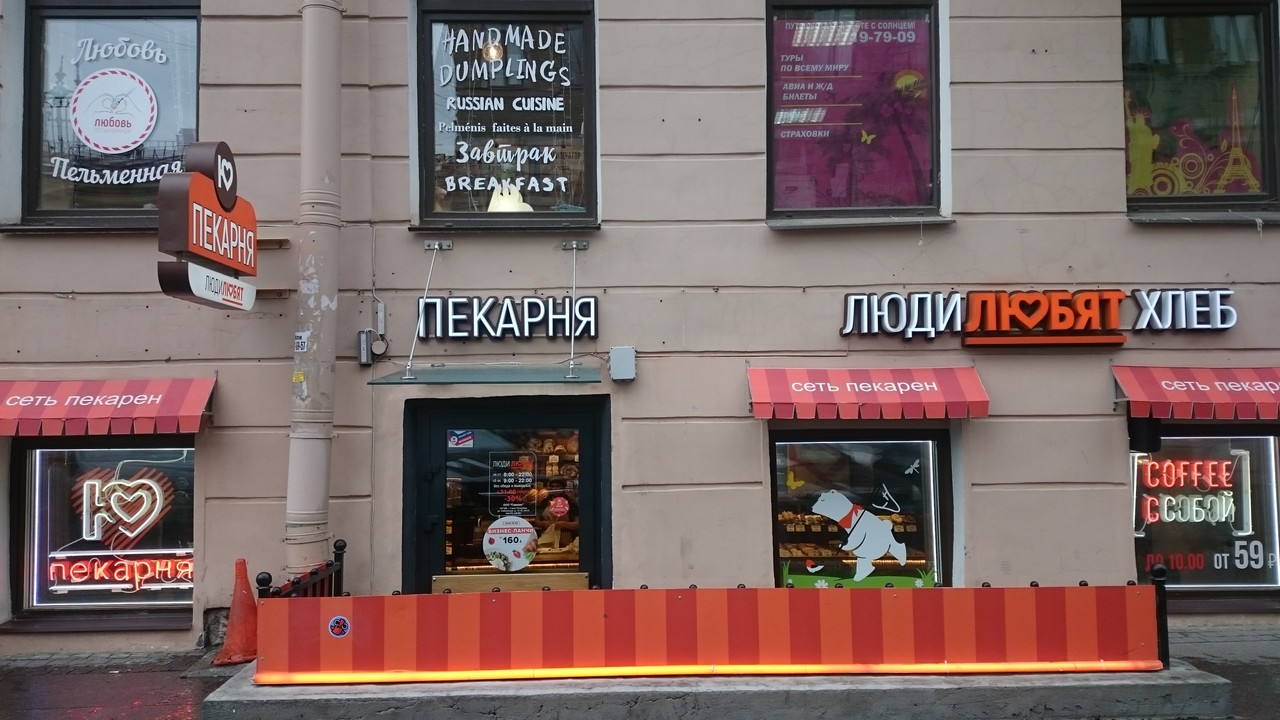cantilever: (155, 134, 297, 312)
signboard: (843, 288, 1236, 350), (416, 295, 600, 341)
window: (764, 6, 942, 222), (423, 9, 595, 223), (22, 12, 198, 220), (412, 408, 601, 589), (1125, 7, 1280, 201), (21, 444, 194, 611), (765, 432, 943, 587), (1129, 425, 1280, 595)
